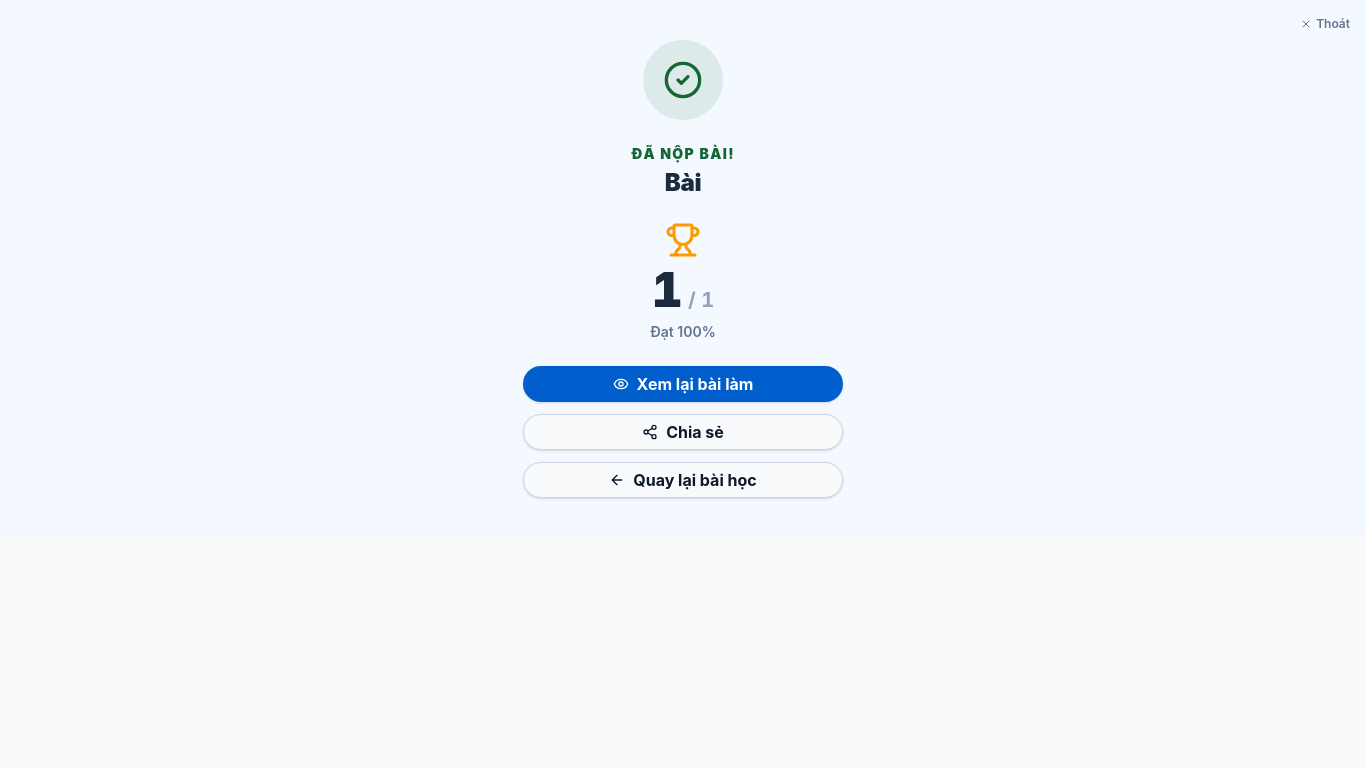
SubmissionRunner — xem lại lần nộp TRƯỚC (SBT_1308 đỏ #39) › không lấy được đáp án → giữ màn tóm tắt điểm, không dựng review rỗng
The width and height of the screenshot is (1366, 768).
Click the button "Xem lại bài làm".
click(683, 384)  # box [523, 366, 843, 402]
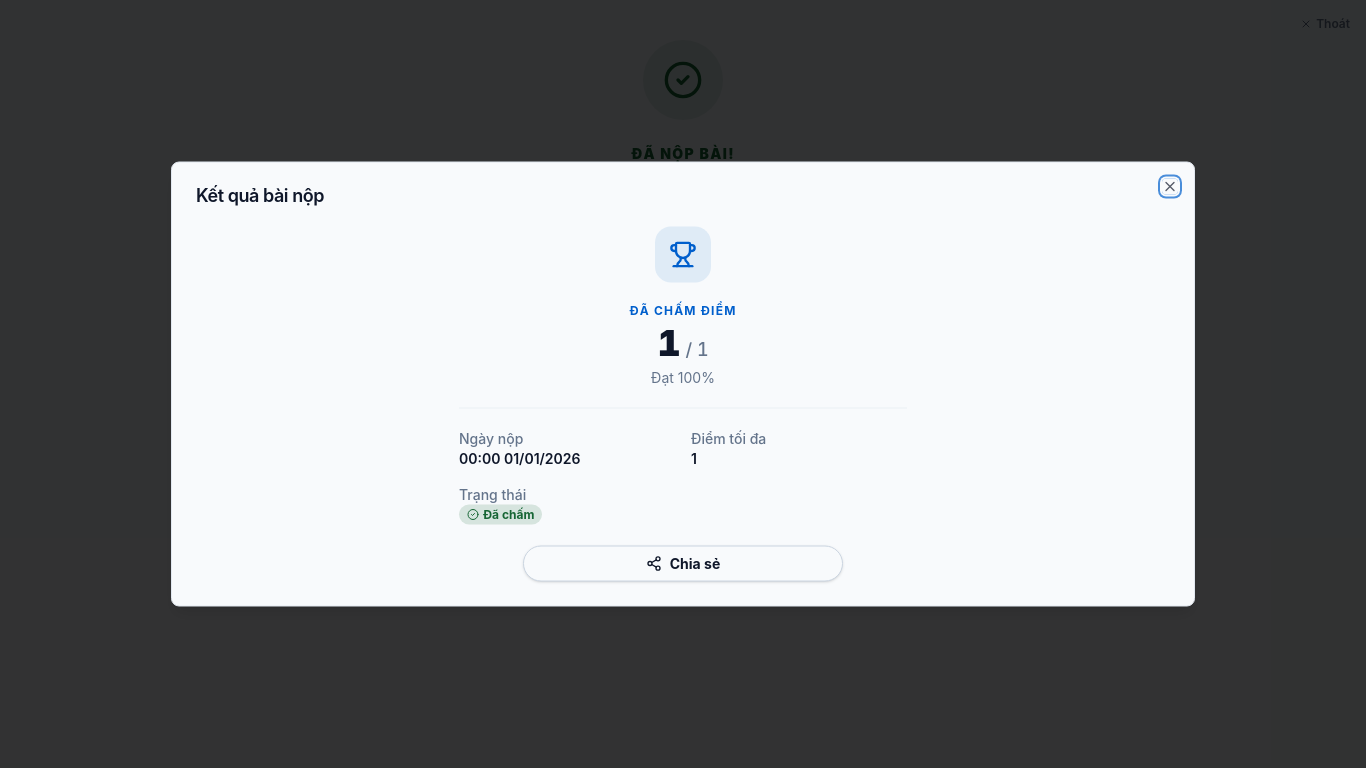
Expected: the heading "Kết quả bài nộp" is shown, [196, 184, 324, 206]
